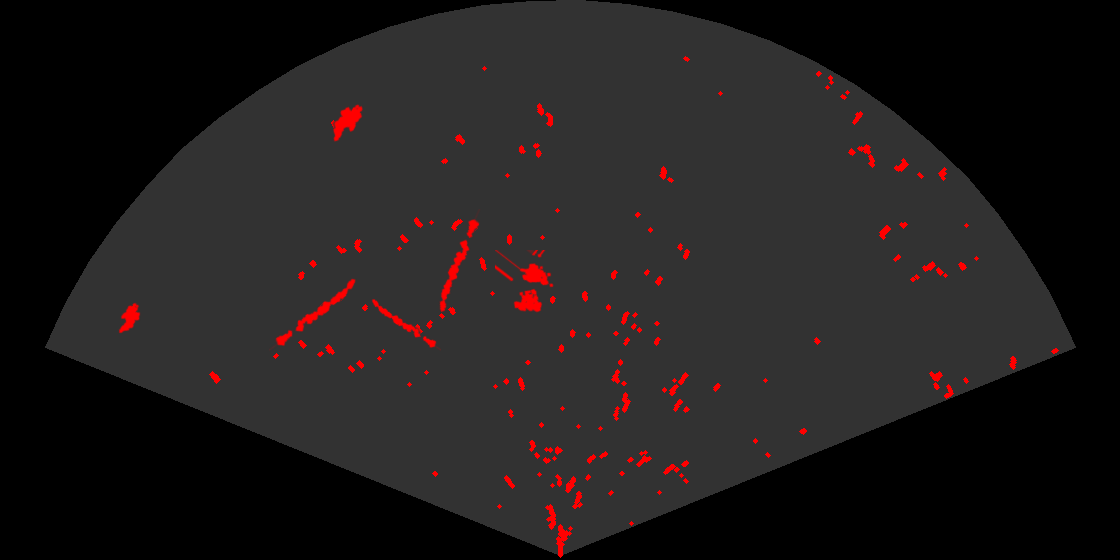AUV: (331, 103, 365, 143), (117, 301, 142, 335)
cage: (495, 250, 555, 314)
chain: (269, 277, 357, 352), (438, 209, 482, 314), (370, 297, 441, 352)
